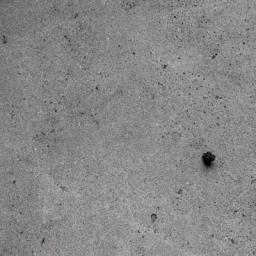FOD: (201, 150, 220, 169)
